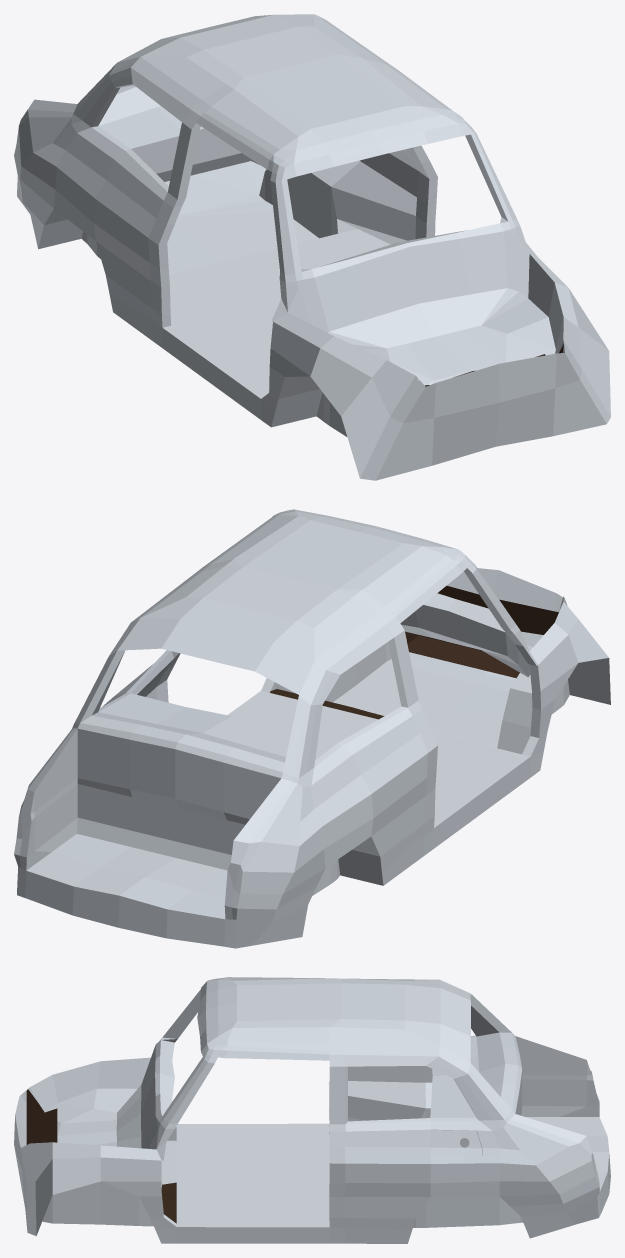
The model's file is Body.fbx.
The picture shows the model from 3 angles, top to bottom: view 1: azimuth 30°, elevation 25°; view 2: azimuth 150°, elevation 25°; view 3: azimuth 270°, elevation 25°; orthographic projection. The views are drawn at different scales.
Parts seen in each view (by area): view 1: Body.001; view 2: Body.001; view 3: Body.001.
Part boxes in pixels (<box>): Body.001: <box>14,14,610,480</box>; Body.001: <box>14,509,610,948</box>; Body.001: <box>14,977,610,1243</box>.
Size of the model in its own units: 1.54 by 1.29 by 3.64.
